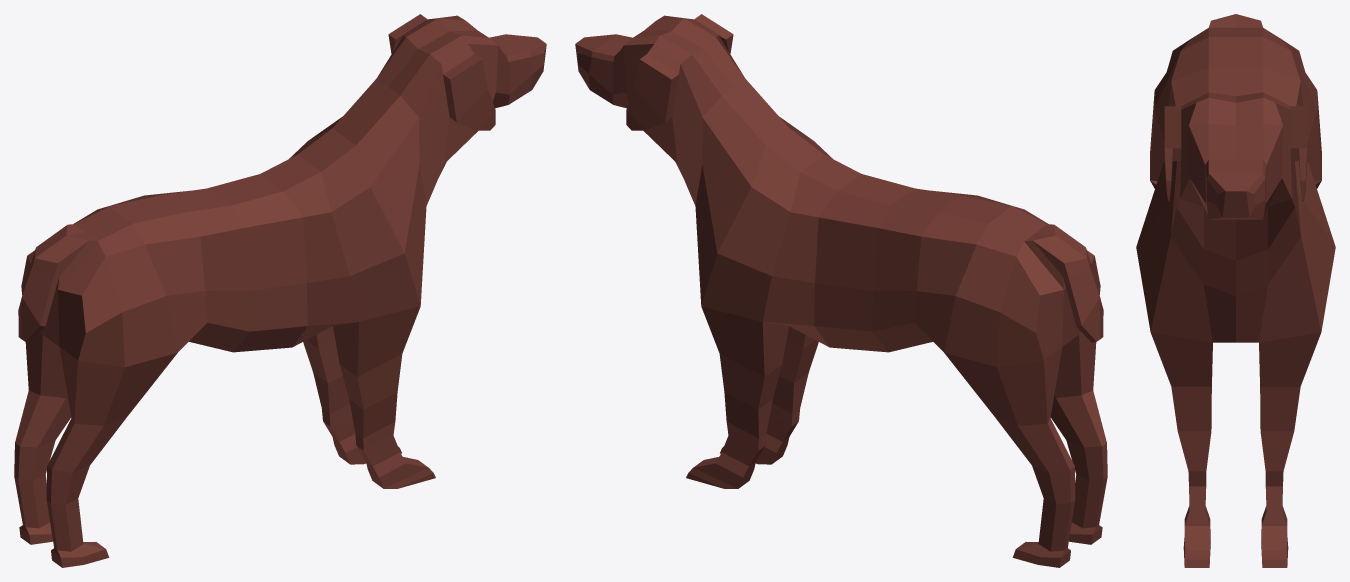
File: DogBase.fbx
3 views of the same model, side by side, from view 1: azimuth 30°, elevation 25°; view 2: azimuth 150°, elevation 25°; view 3: azimuth 270°, elevation 25° (orthographic). The views are drawn at different scales.
Parts seen in each view (by area): view 1: Dog; view 2: Dog; view 3: Dog.
Part boxes in pixels (x1,y1,x2,y2): Dog: [14, 14, 546, 567]; Dog: [575, 14, 1107, 567]; Dog: [1136, 14, 1335, 567].
Bounding box in the file's own units: 116 × 91.55 × 33.56.
